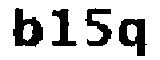1: (49, 6, 80, 52)
5: (86, 4, 114, 47)
b: (11, 6, 46, 49)
q: (118, 16, 148, 60)
